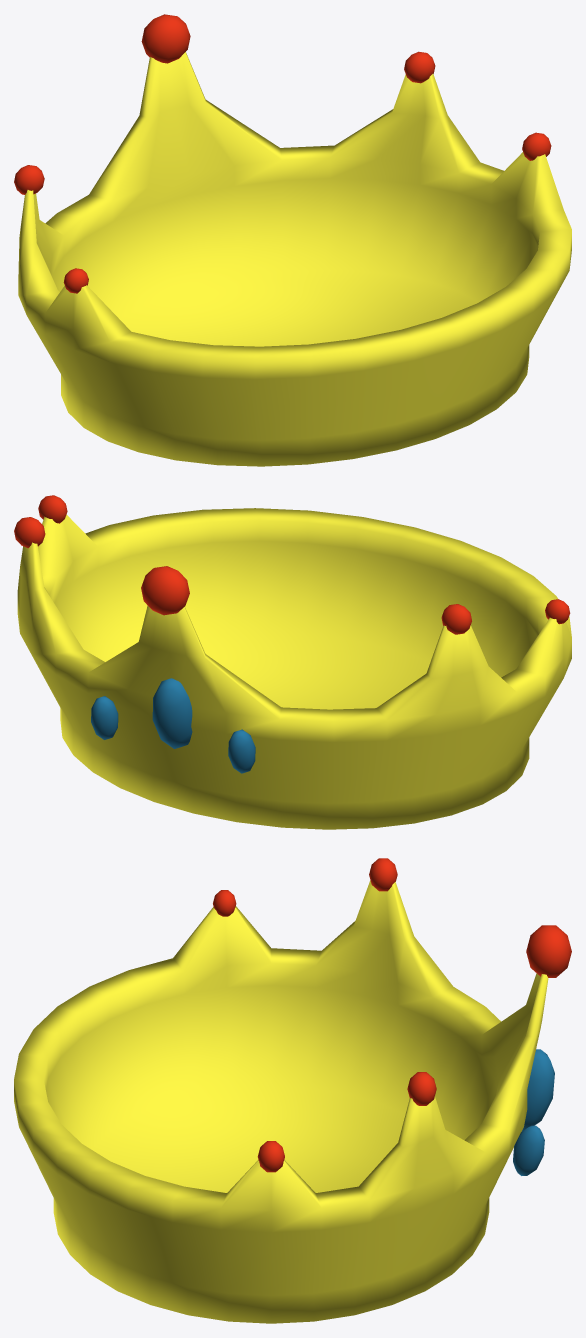
File: princess.fbx
The picture shows the model from 3 angles, top to bottom: view 1: azimuth 30°, elevation 25°; view 2: azimuth 150°, elevation 25°; view 3: azimuth 270°, elevation 25°; orthographic projection. The views are drawn at different scales.
Visible parts, largest first — view 1: Cylinder; view 2: Cylinder; view 3: Cylinder.
Part boxes in pixels (left/top/right/bottom): Cylinder: left=14, top=14, right=571, bottom=466; Cylinder: left=14, top=495, right=571, bottom=829; Cylinder: left=14, top=858, right=571, bottom=1323.
Bounding box in the file's own units: 0.4672 × 0.235 × 0.4151.
